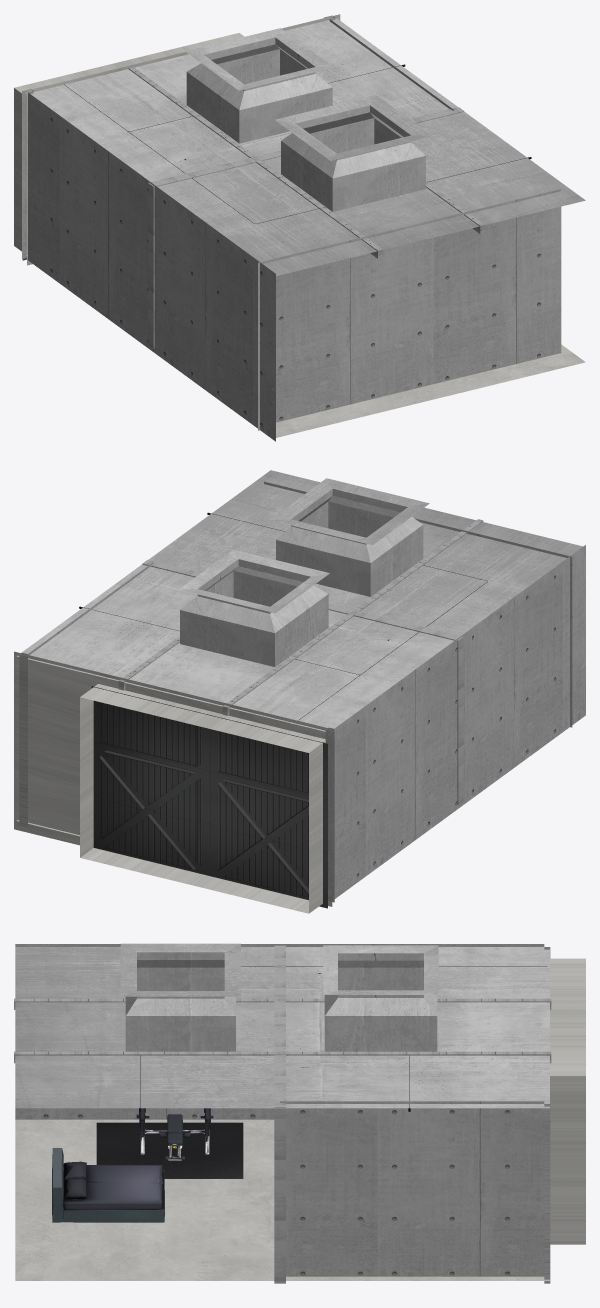
File: interior.glb
The picture shows the model from 3 angles, top to bottom: view 1: azimuth 30°, elevation 25°; view 2: azimuth 150°, elevation 25°; view 3: azimuth 270°, elevation 25°; orthographic projection. The views are drawn at different scales.
Parts seen in each view (by area): view 1: Plane.002, Plane.009, Plane.001, Plane, Plane.003, Cube, Cube.001; view 2: Plane.002, Plane.001, Plane.005, Plane.003, Cube, Cube.001, Plane.007, Plane.009; view 3: Plane.002, Plane.007, Plane, Plane.003, node_0.004_Material.015_0, Plane.004, Cube.001, Cube, Plane.001, node_0.002_Material.009_0.
Boxes of the visible parts, x1,y1,x2,y2 form: Plane.002: (26, 18, 585, 275); Plane.009: (258, 189, 561, 430); Plane.001: (22, 89, 275, 441); Plane: (26, 254, 585, 437); Plane.003: (14, 14, 340, 265); Cube: (148, 107, 464, 348); Cube.001: (128, 67, 485, 258); Plane.002: (17, 470, 582, 731); Plane.001: (325, 545, 585, 902); Plane.005: (91, 686, 327, 908); Plane.003: (14, 651, 332, 913); Cube: (142, 559, 463, 804); Cube.001: (118, 519, 483, 715); Plane.007: (19, 562, 153, 827); Plane.009: (264, 481, 572, 727); Plane.002: (15, 943, 549, 1108); Plane.007: (280, 1101, 550, 1283); Plane: (15, 1119, 549, 1280); Plane.003: (550, 958, 585, 1244); node_0.004_Material.015_0: (52, 1148, 164, 1222); Plane.004: (96, 1122, 243, 1178); Cube.001: (14, 998, 551, 1063); Cube: (274, 945, 285, 1283); Plane.001: (15, 944, 550, 1119); node_0.002_Material.009_0: (136, 1108, 213, 1160).
Size of the model in its own units: 5.88 by 4 by 8.6.
13 materials, 12 textured.
